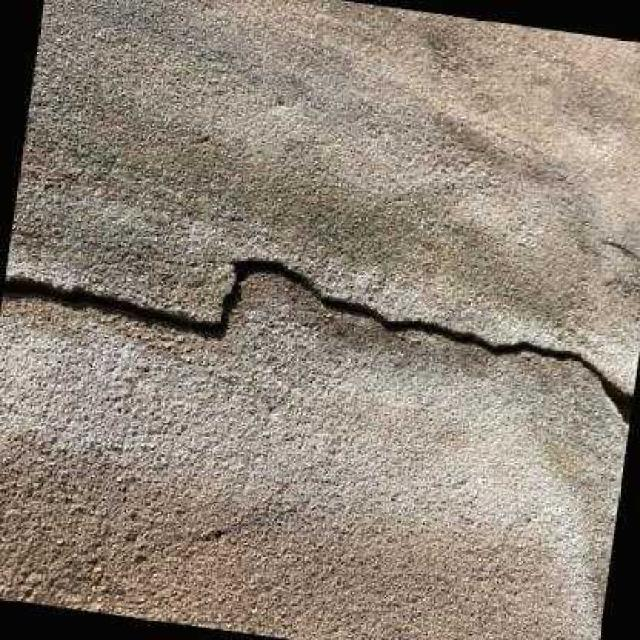D00: (0, 258, 633, 424)
